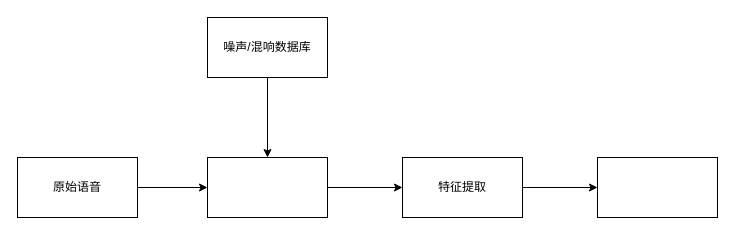
Some shapes in this 735 by 235 pixel diagram are drawn without their labels. The centre of each missing label's shape, as x and y in pixels:
"数据增强 （数据翻倍）" goes at pixel 267 187.
"模型训练" goes at pixel 657 187.
